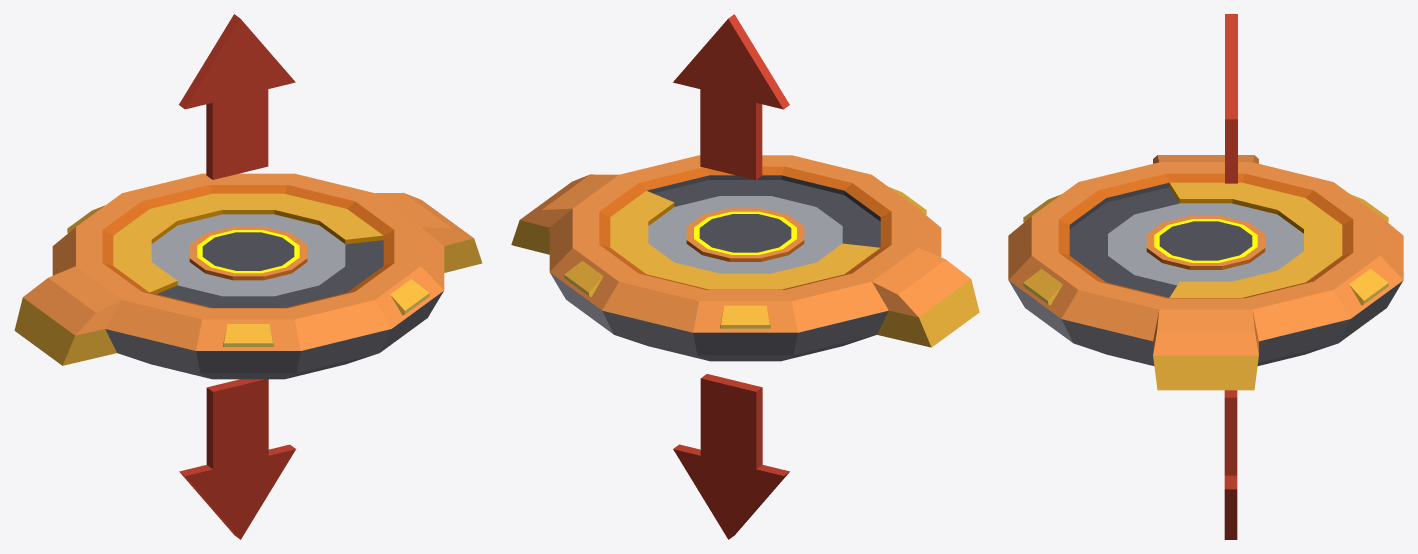
The model's file is Vertical_Platform_SciFi_Alt.glb.
3 views of the same model, side by side, from view 1: azimuth 30°, elevation 25°; view 2: azimuth 150°, elevation 25°; view 3: azimuth 270°, elevation 25° (orthographic).
Visible parts, largest first — view 1: CircularPlatform, Plane.001, Plane; view 2: CircularPlatform, Plane.001, Plane; view 3: CircularPlatform, Plane.001, Plane.
Boxes of the visible parts, box(x1,y1,x2,y2) form: CircularPlatform: box(14, 173, 482, 379); Plane.001: box(179, 14, 295, 179); Plane: box(179, 379, 295, 539); CircularPlatform: box(511, 155, 979, 361); Plane.001: box(673, 14, 789, 179); Plane: box(673, 374, 789, 539); CircularPlatform: box(1008, 155, 1403, 390); Plane.001: box(1225, 14, 1237, 183); Plane: box(1224, 390, 1237, 539).
Bounding box in the file's own units: 2.62 × 3.11 × 2.12.
2 materials, 2 textured.
